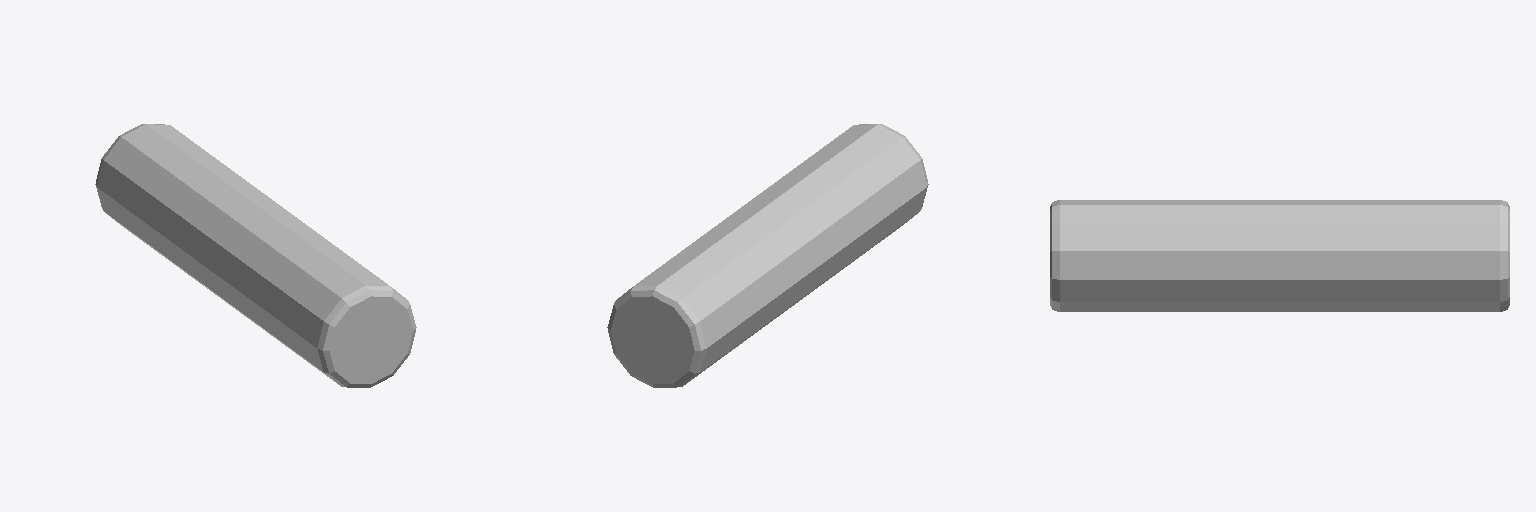
The model's file is at_silencer.obj.
The picture shows the model from 3 angles: view 1: azimuth 30°, elevation 25°; view 2: azimuth 150°, elevation 25°; view 3: azimuth 270°, elevation 25°; orthographic projection.
Visible parts, largest first — view 1: at_silencer_at_silencer_mesh; view 2: at_silencer_at_silencer_mesh; view 3: at_silencer_at_silencer_mesh.
Boxes of the visible parts, x1,y1,x2,y2 form: at_silencer_at_silencer_mesh: [95, 124, 416, 387]; at_silencer_at_silencer_mesh: [607, 124, 928, 387]; at_silencer_at_silencer_mesh: [1050, 200, 1509, 311].
Size of the model in its own units: 0.0638 by 0.0638 by 0.2605.